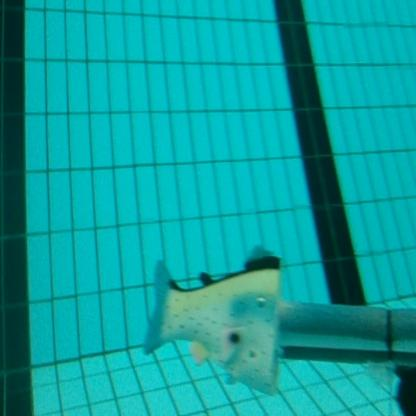tail: (142, 242, 284, 400)
